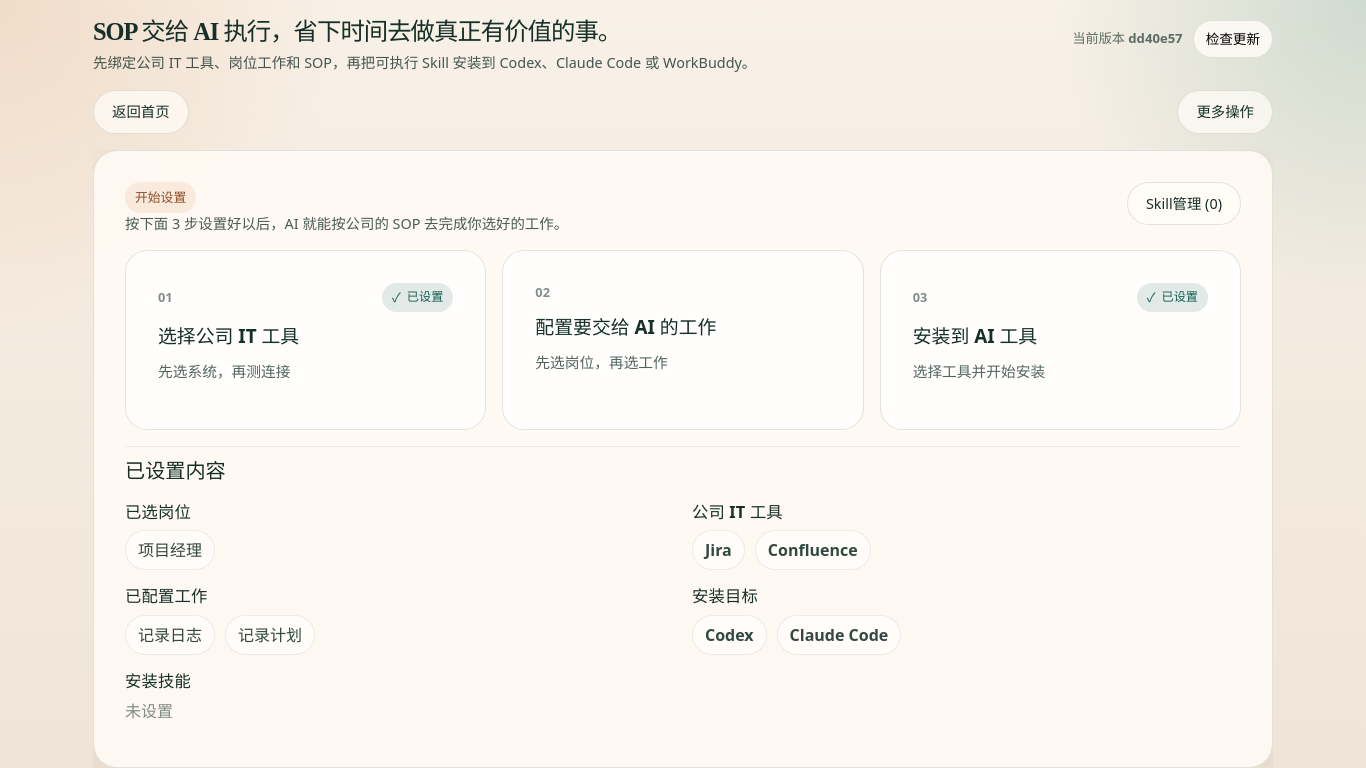
Test: onboarding shell smoke coverage › shows the version management category for Gerrit and SVN in the skill library
The width and height of the screenshot is (1366, 768).
What coordinates should you click on to do the following:
click the button "更多操作"
I would click on:
 (1225, 112)
Its box is [1177, 90, 1273, 134].
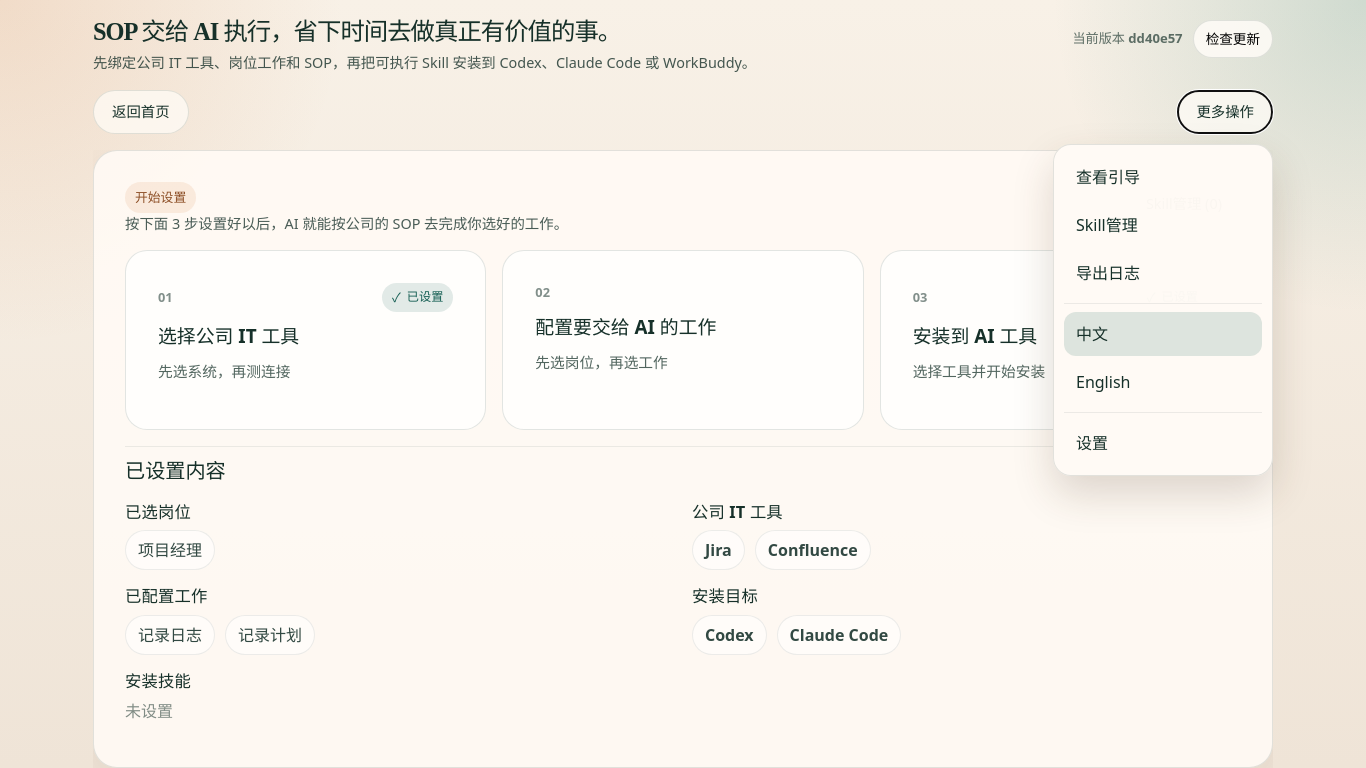
Expected: the element with class "header-menu__panel" is shown, [1053, 144, 1273, 476]
What coordinates should you click on to do the following:
click the button "Skill管理"
I would click on:
 (1163, 225)
Its box is [1064, 203, 1262, 247].
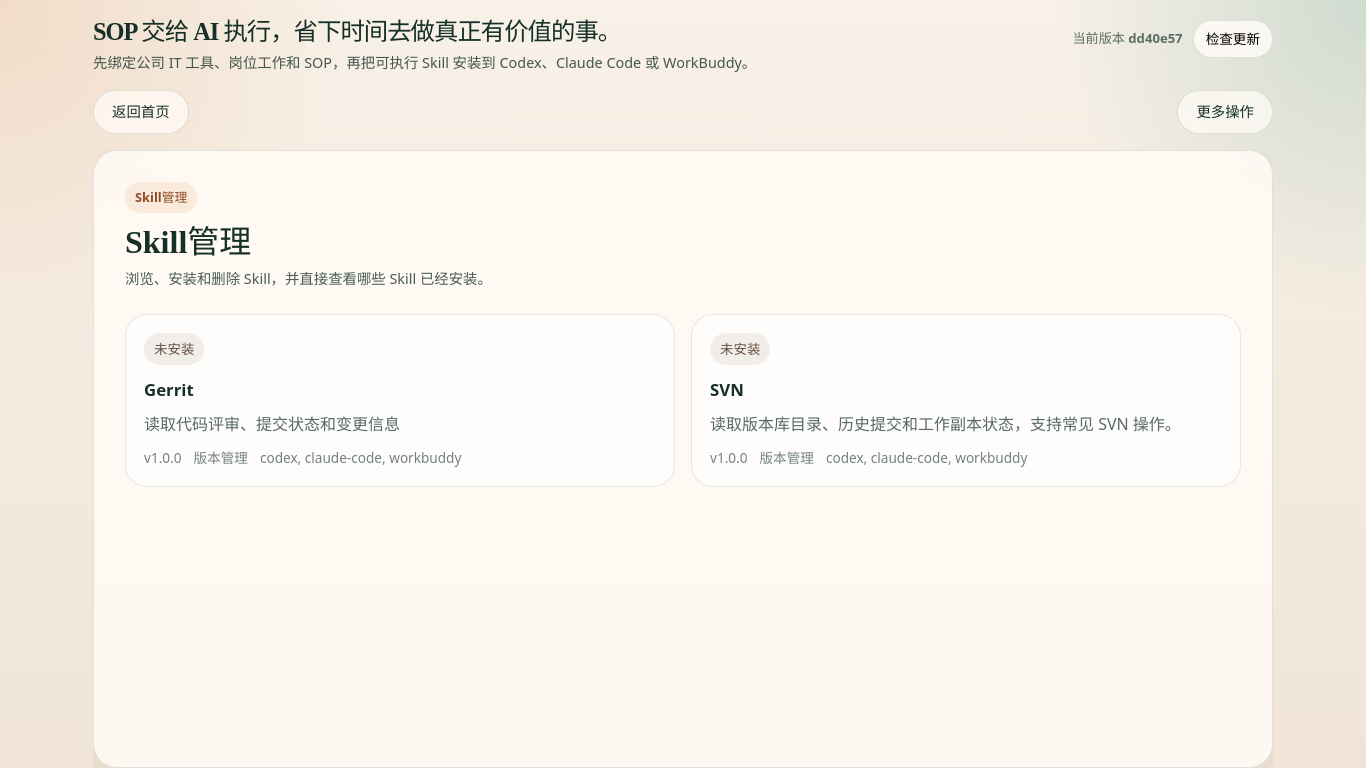
Expected: the heading "Gerrit" is shown, [144, 378, 194, 401]
Expected: the heading "SVN" is shown, [710, 378, 744, 401]
Expected: the text "版本管理" below "读取代码评审、提交状态和变更信息" is shown, [194, 448, 248, 467]
